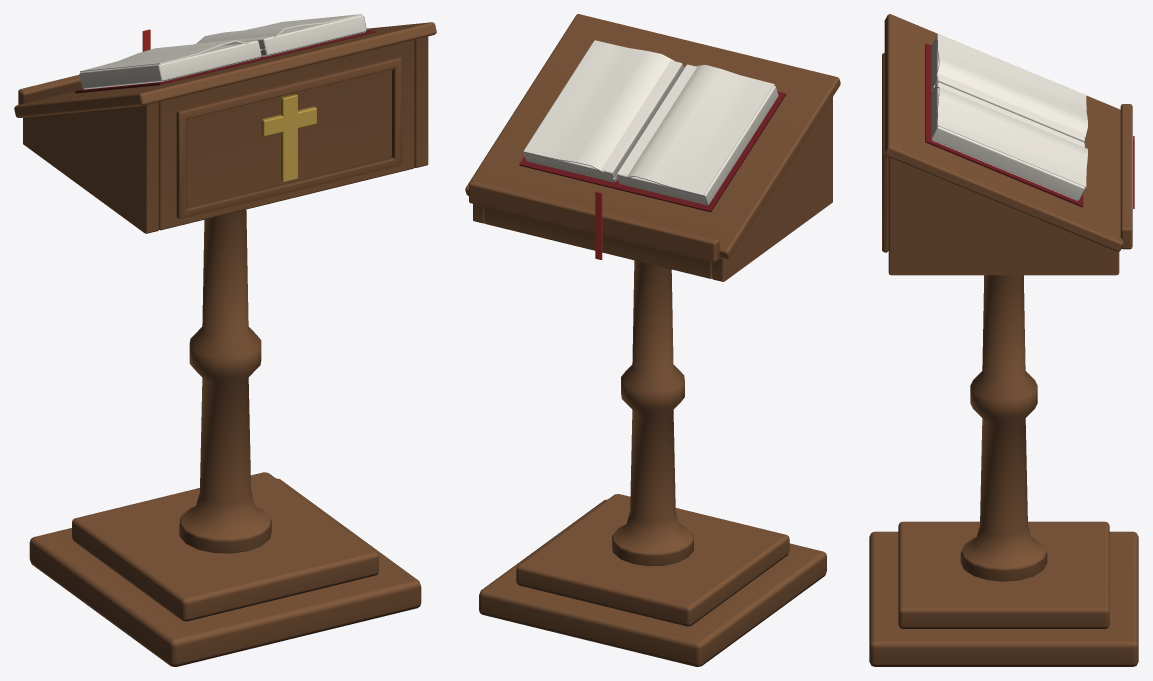
The model's file is lectern.glb.
The picture shows the model from 3 angles, left to right: view 1: azimuth 30°, elevation 25°; view 2: azimuth 150°, elevation 25°; view 3: azimuth 270°, elevation 25°; orthographic projection. The views are drawn at different scales.
Visible parts, largest first — view 1: lectern; view 2: lectern; view 3: lectern.
Boxes of the visible parts, <box> form: lectern: <box>14,14,436,666</box>; lectern: <box>465,14,840,666</box>; lectern: <box>869,14,1138,666</box>.
Size of the model in its own units: 0.66 by 1.23 by 0.56.
